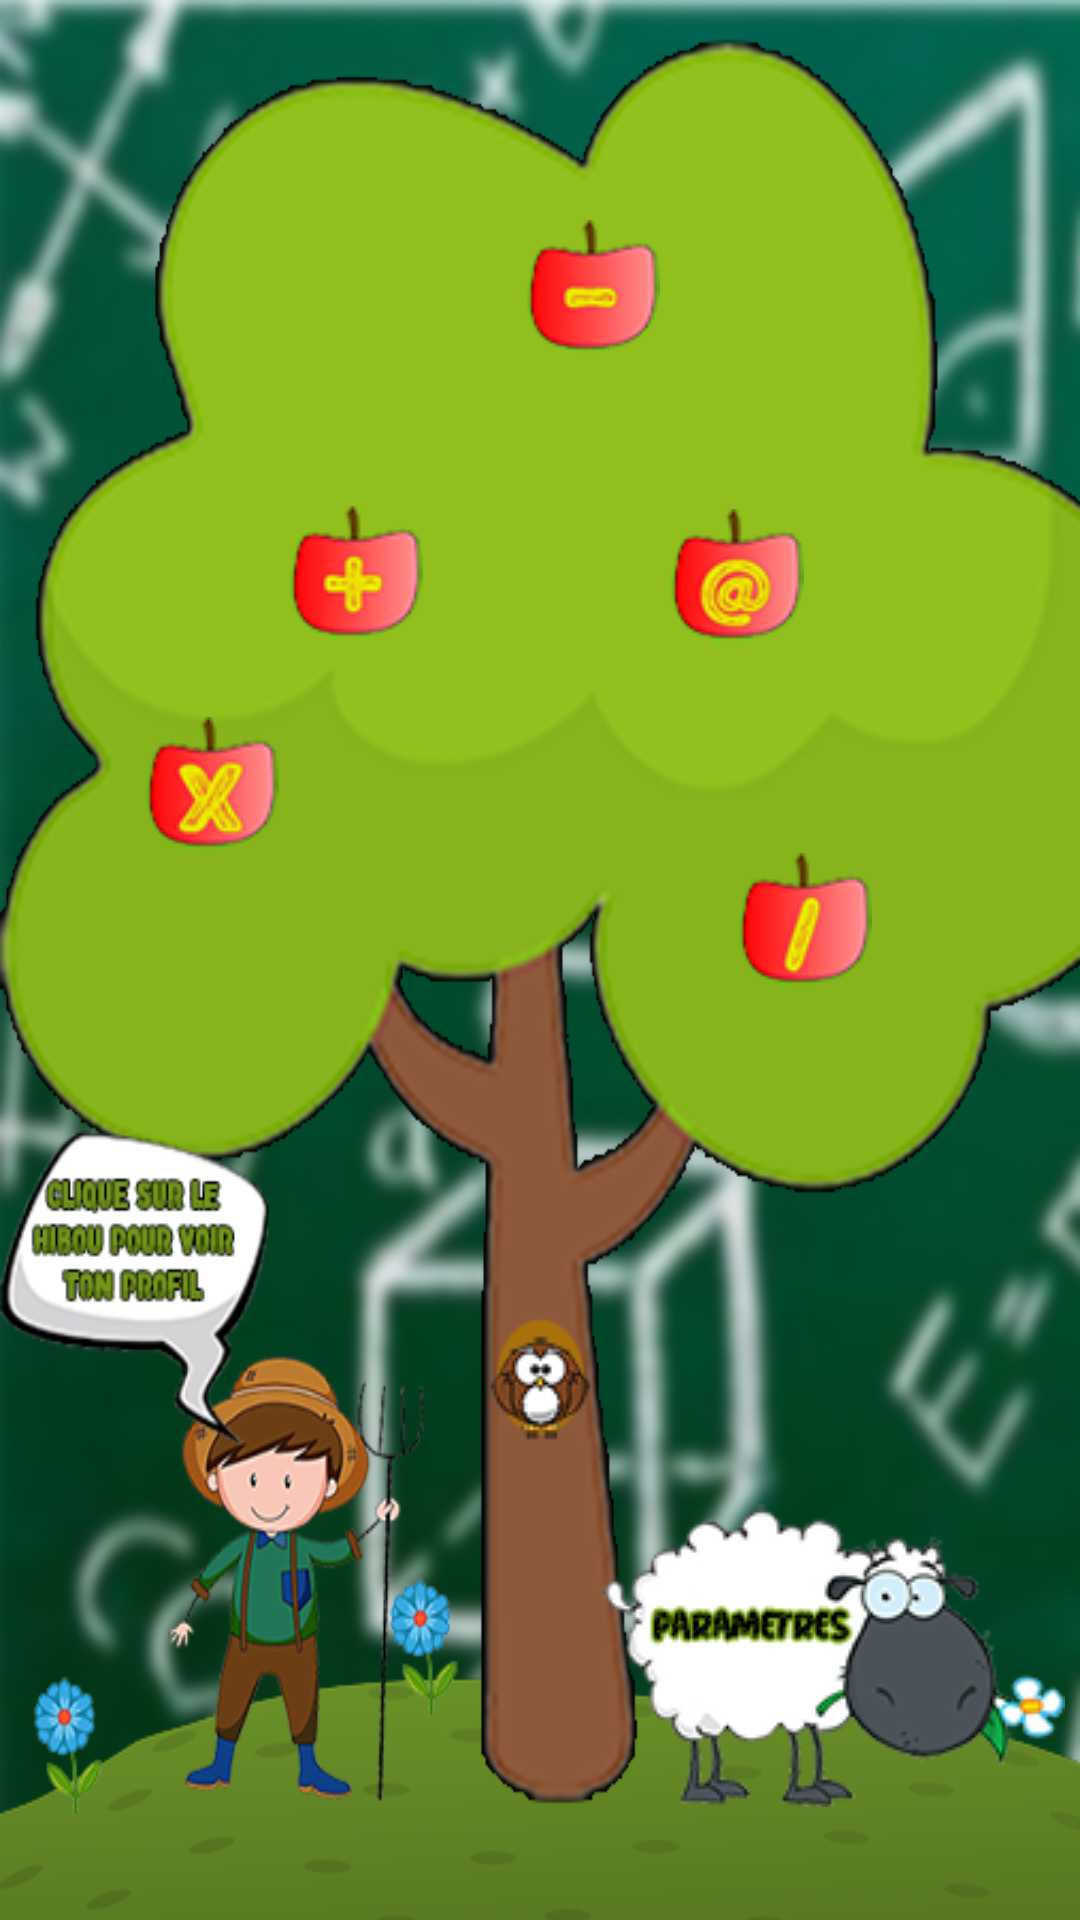

Icons on this 1080x1920 Android screen, each with its box as bbox(x1, y1, x2, y2):
apple add: bbox(291, 506, 423, 638)
applediv: bbox(740, 853, 872, 984)
applemult: bbox(147, 717, 279, 848)
applerand: bbox(672, 509, 804, 641)
applesous: bbox(528, 220, 660, 352)
